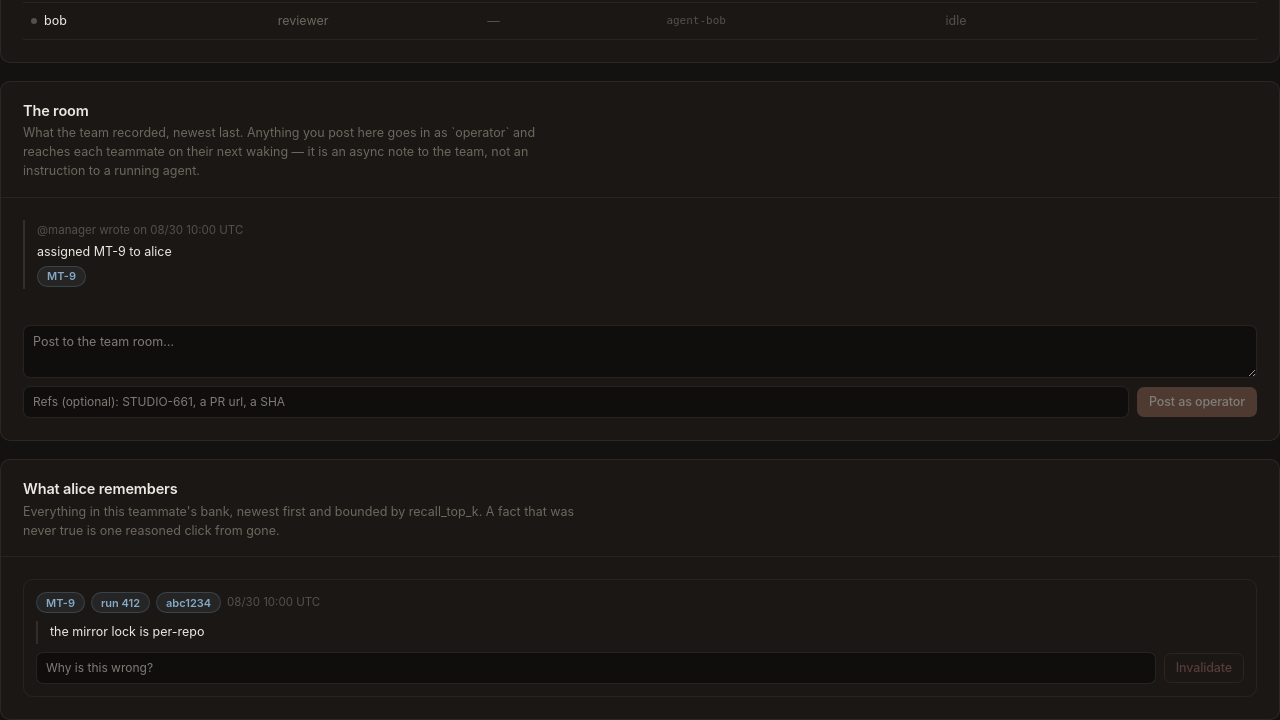
it: TeamsPanel memory › requires a reason before the invalidate button is live
(page scrolled)
Check: the button "Invalidate" is disabled, box [1164,653,1244,683]
Type "STUDIO-408 was Done on 2026-08-19" into the field with placeholder "Why is this wrong?".
click(596, 668); type("STUDIO-408 was Done on 2026-08-19")  # box [36,652,1156,684]
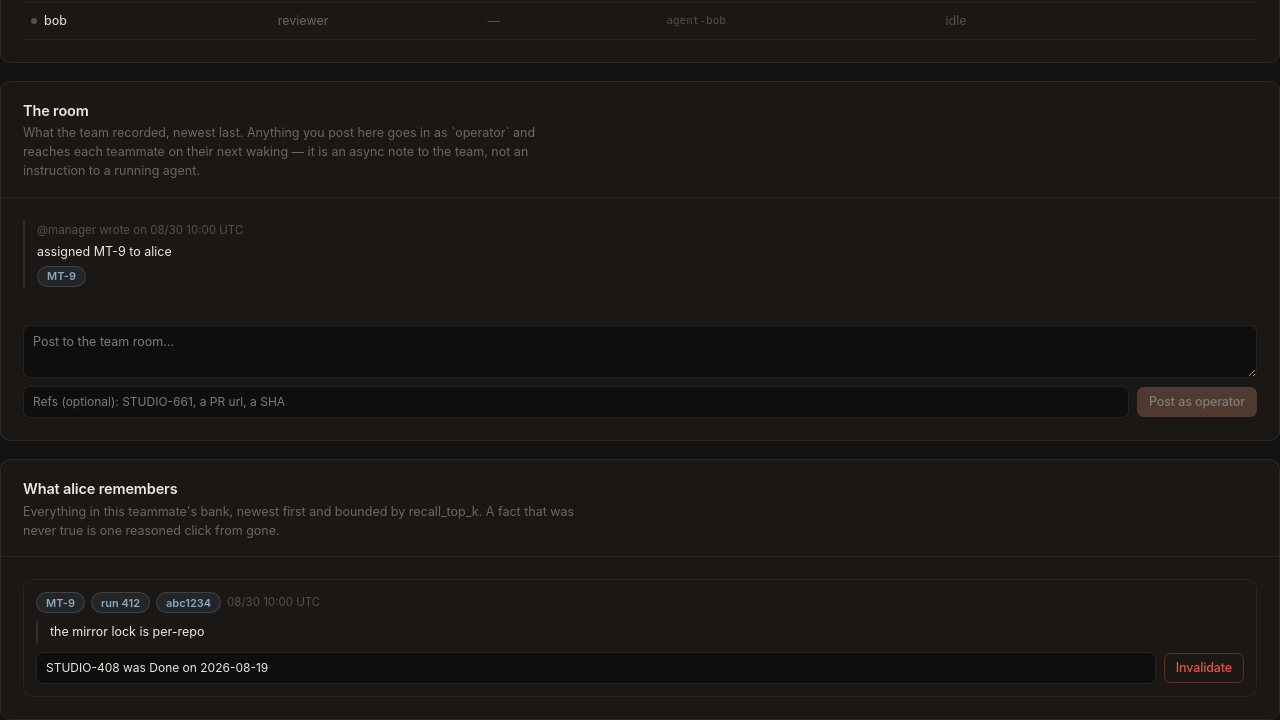
Check: the button "Invalidate" is enabled, box [1164,653,1244,683]
